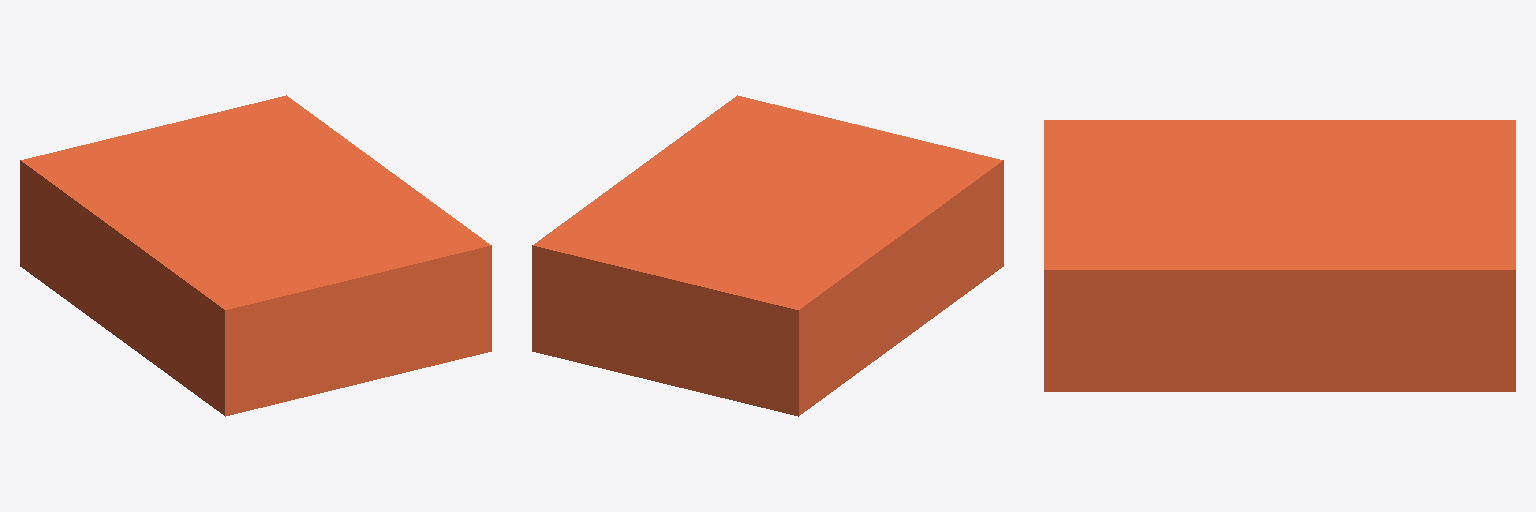
robot.urdf — myfirst:
<?xml version="1.0"?>
 <robot name="myfirst">
   <material name="red">
     <color rgba="1 0.498 0.3137 1"/>
   </material>
   <link name="right_leg">
     <visual>
       <geometry>
         <box size="0.16 0.21343700408935547 0.061"/>
       </geometry>
       <material name="red"/>
     </visual>
     <collision>
       <geometry>
         <box size="0.16 0.21343700408935547 0.061"/>
       </geometry>
     </collision>
     <inertial>
       <mass value="1"/>
       <inertia ixx="1.0" ixy="0.0" ixz="0.0" iyy="1.0" iyz="0.0" izz="1.0"/>
     </inertial>
   </link>
 </robot>

--- What the picture shows (computed from the rendered views, not written in the file) ---
The picture shows the robot from 3 angles, left to right: view 1: azimuth 30°, elevation 25°; view 2: azimuth 150°, elevation 25°; view 3: azimuth 270°, elevation 25°; orthographic projection.
Model myfirst with 1 links and 0 joints (none), rooted at right_leg, posed all joints at 0.
Visible links, largest first — view 1: right_leg; view 2: right_leg; view 3: right_leg.
Link boxes in pixels (box(x1,y1,x2,y2)): right_leg: box(20, 95, 491, 416); right_leg: box(532, 95, 1003, 416); right_leg: box(1044, 120, 1515, 391).
Size in the robot's own frame: 0.16 by 0.2134 by 0.061 metres.
Geometry: primitives only (box / cylinder / sphere), no mesh files.
